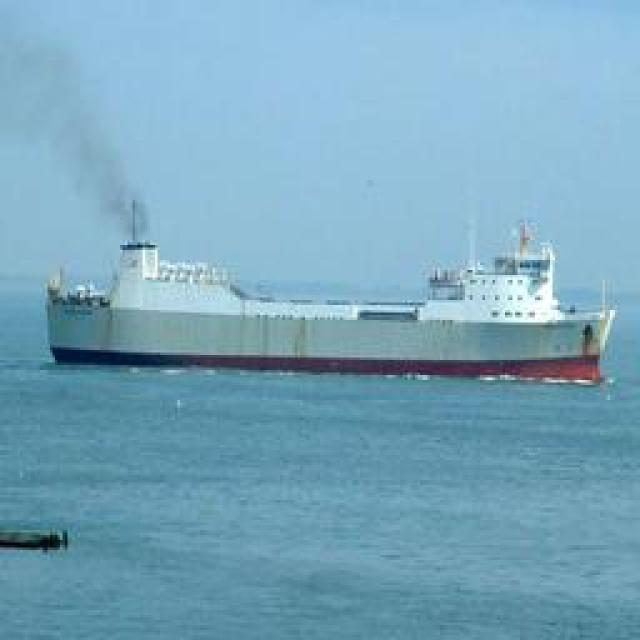Ship: (45, 210, 618, 378)
